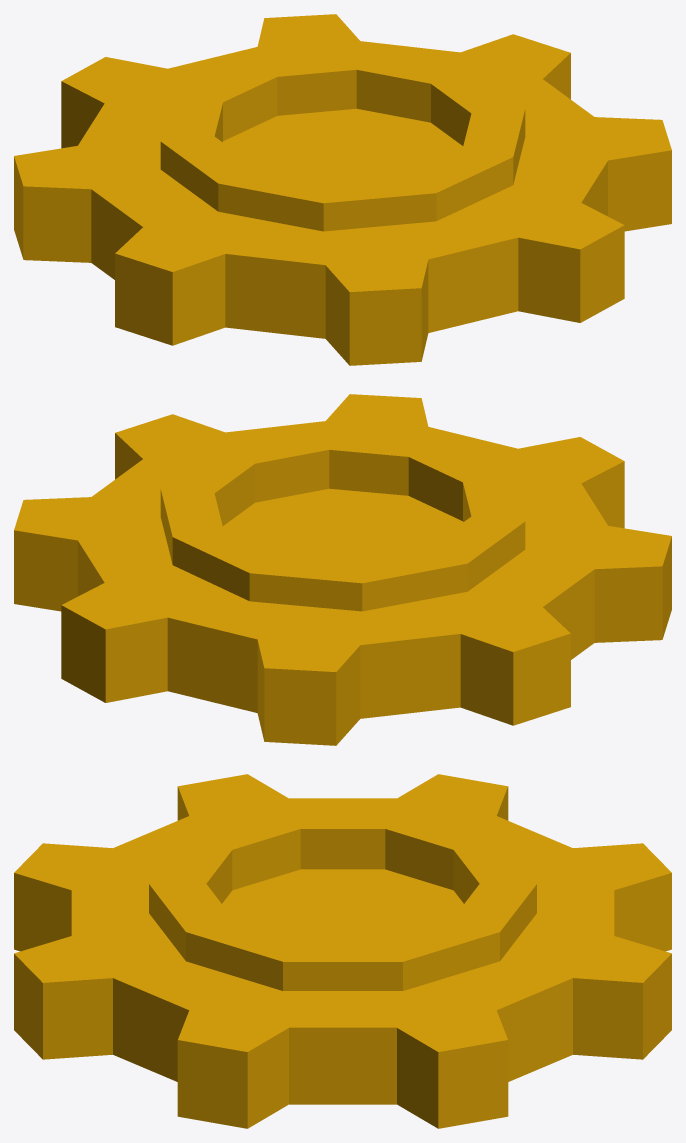
Rendered from Cog.fbx.
3 views of the same model, one above another, from view 1: azimuth 30°, elevation 25°; view 2: azimuth 150°, elevation 25°; view 3: azimuth 270°, elevation 25° (orthographic). The views are drawn at different scales.
Parts seen in each view (by area): view 1: Cylinder, Cylinder.006; view 2: Cylinder, Cylinder.006; view 3: Cylinder, Cylinder.006.
Boxes of the visible parts, x1,y1,x2,y2 form: Cylinder: (14,14,671,365); Cylinder.006: (160,46,525,231); Cylinder: (14,394,671,745); Cylinder.006: (160,426,525,611); Cylinder: (14,774,671,1128); Cylinder.006: (149,805,536,990).
Size of the model in its own units: 1017 by 269 by 1017.
